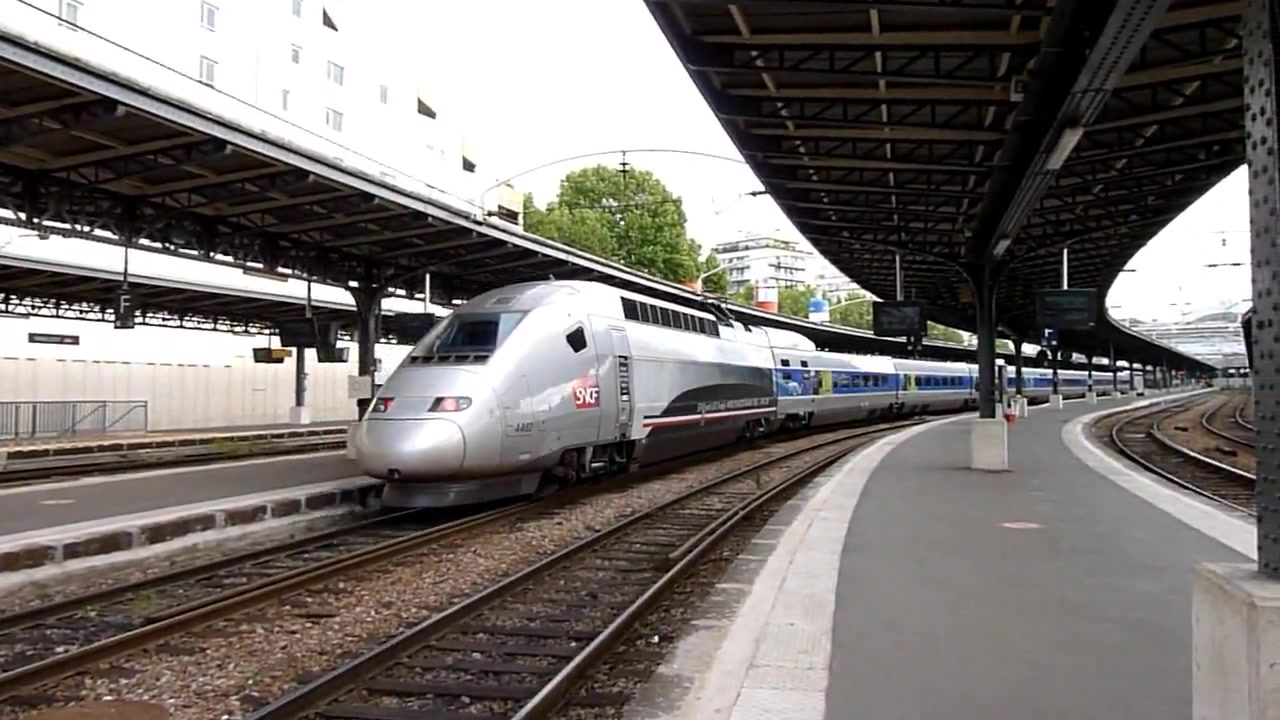train: (340, 275, 1143, 500)
